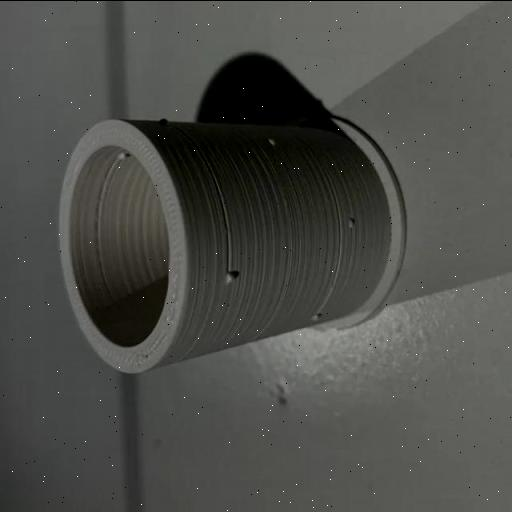blobs: (220, 266, 238, 284), (312, 306, 326, 324), (158, 113, 172, 129), (264, 134, 280, 148), (346, 216, 359, 229), (116, 150, 130, 160)
